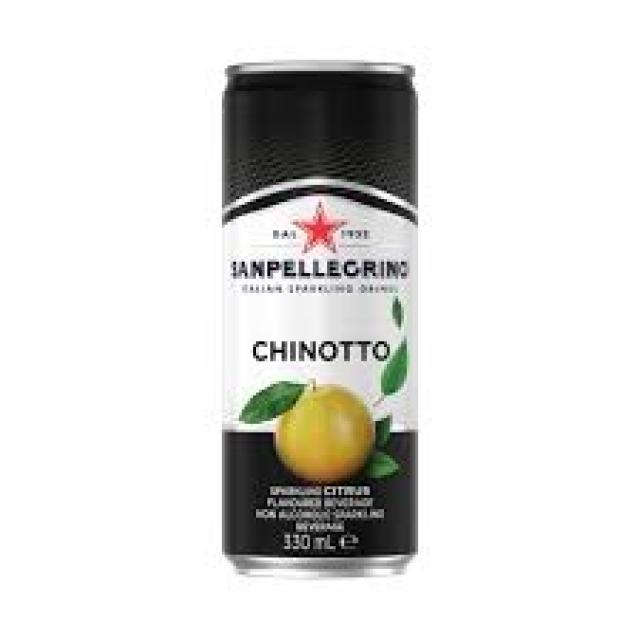Cans: (210, 48, 432, 586)
